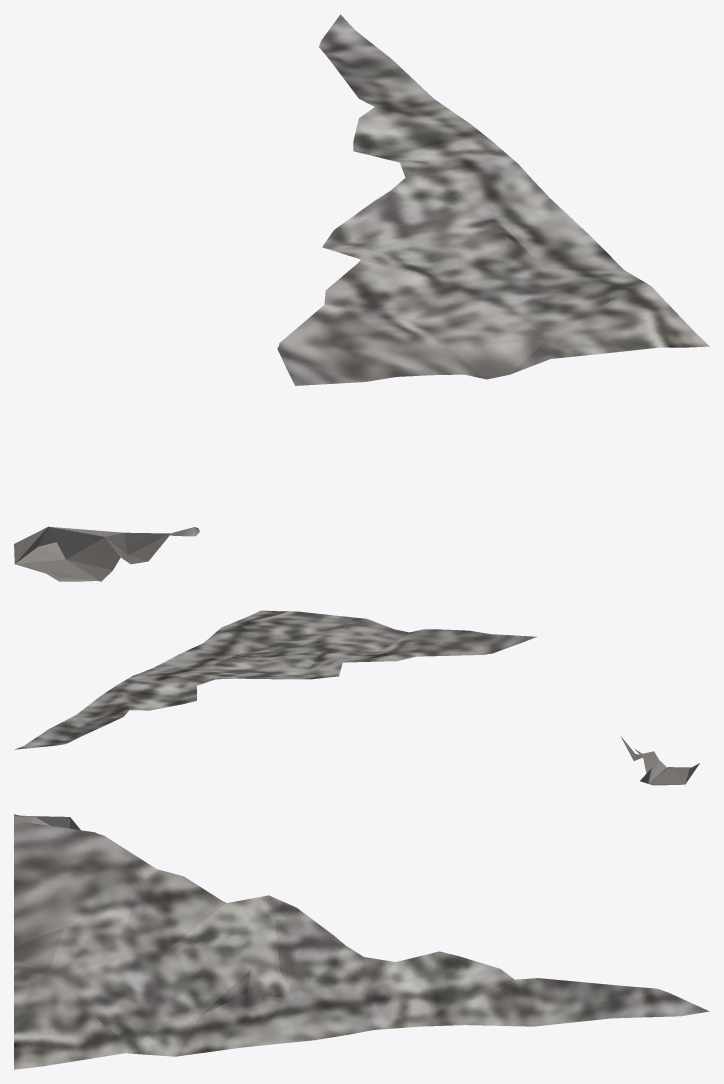
3 renders of one model, top to bottom at view 1: azimuth 30°, elevation 25°; view 2: azimuth 150°, elevation 25°; view 3: azimuth 270°, elevation 25°, orthographic. The views are drawn at different scales.
Bounding box in the file's own units: 0.7404 × 0.1562 × 0.7041.
Materials: 1 (1 with a texture image).
